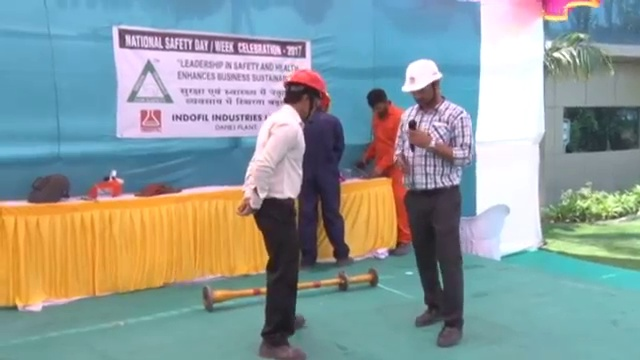helmet: (283, 69, 332, 104), (396, 58, 445, 93)
helmet_off: (366, 87, 391, 115)
helmet_on: (282, 68, 331, 126), (395, 57, 445, 111)
person: (237, 67, 330, 360), (395, 57, 466, 347), (305, 89, 360, 269), (365, 85, 413, 257)
